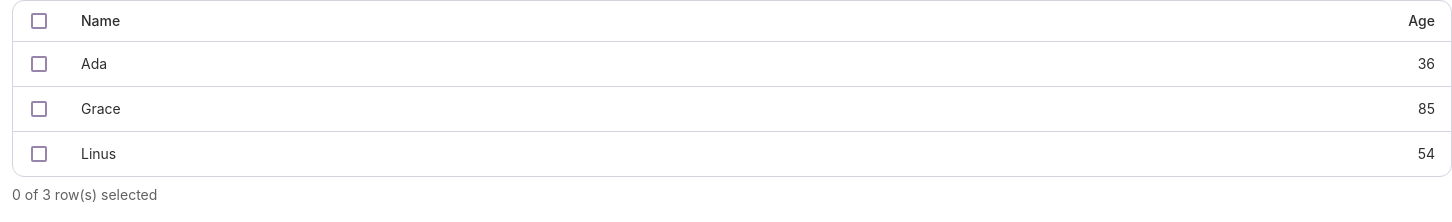
Test: DataTable › selects rows and supports select-all with an indeterminate header
The width and height of the screenshot is (1452, 222).
Click the checkbox named "Select row" next to "Ada": coordinates (39, 64) [31,56,47,72]
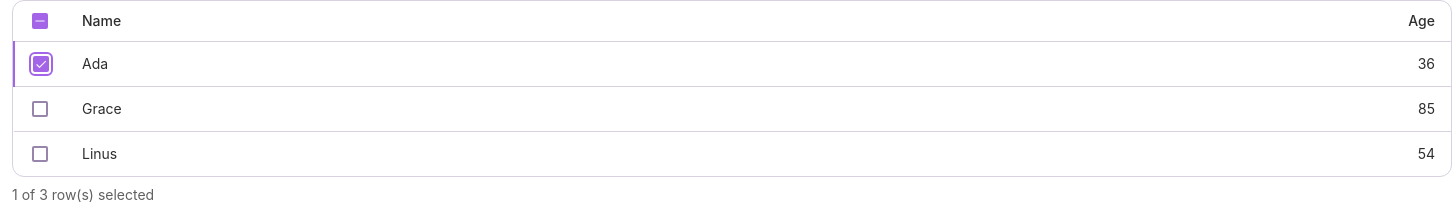
Now the text "1 of 3 row(s) selected" is shown, box [12,185,154,205]
Click the checkbox named "Select all rows": coordinates (40, 21) [32,13,48,29]
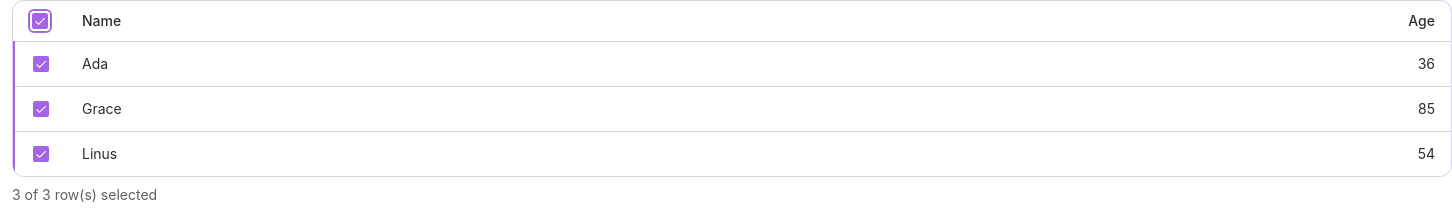
Now the text "3 of 3 row(s) selected" is shown, box [12,185,157,205]
Click the checkbox named "Select all rows": coordinates (40, 21) [32,13,48,29]
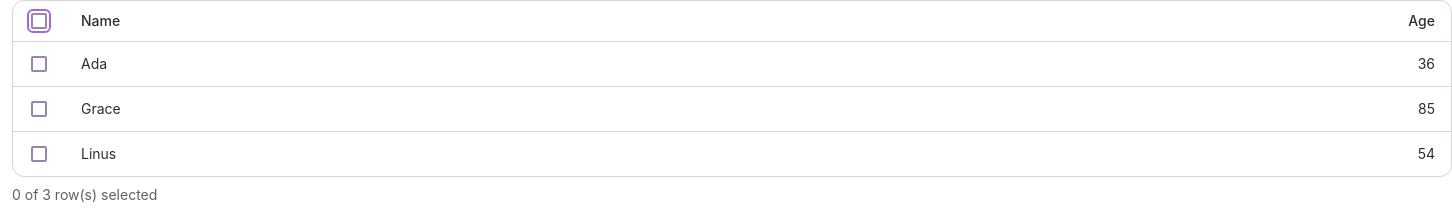
Now the text "0 of 3 row(s) selected" is shown, box [12,185,157,205]
